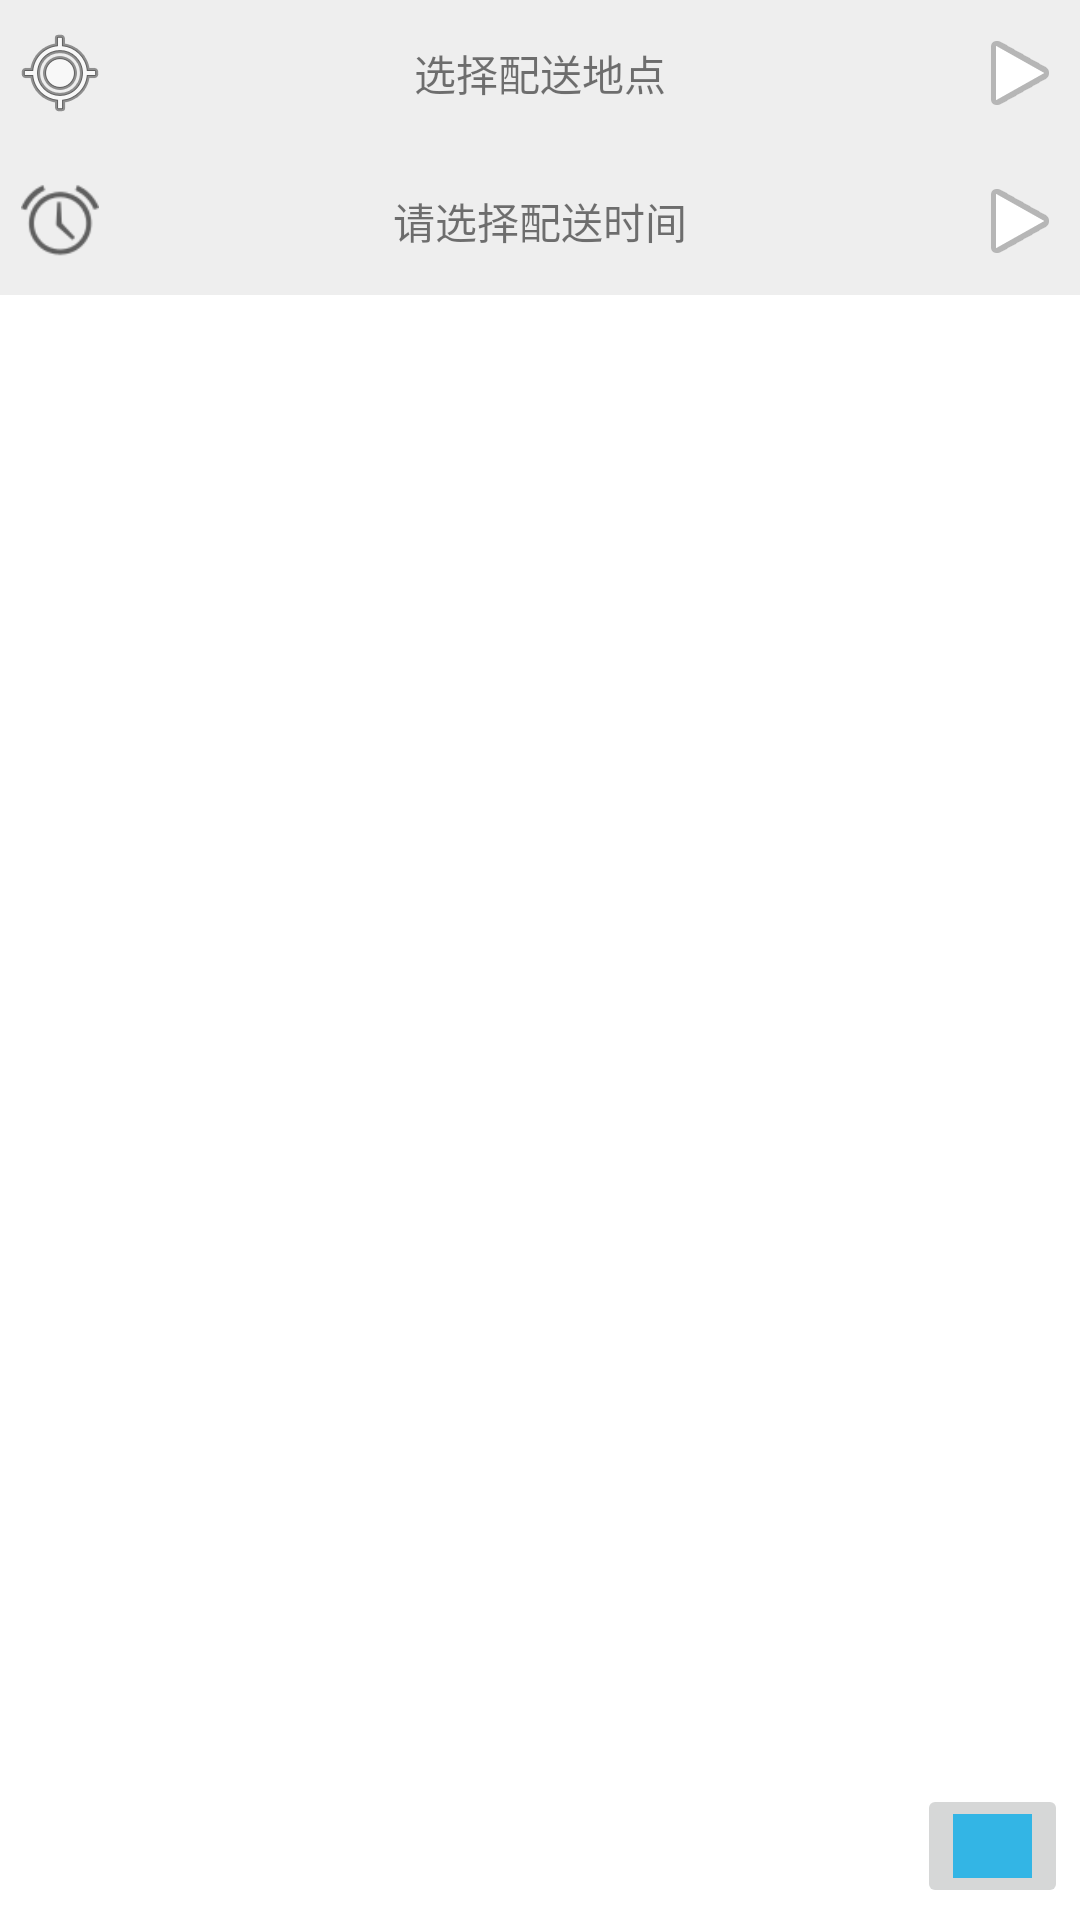

Where icons sit on this 1080 x 1920 app screen, as Rect(x1, y1, x2, y2):
lock idle alarm: Rect(21, 185, 99, 255)
mylocation: Rect(22, 35, 98, 111)
play: Rect(991, 41, 1049, 105), Rect(991, 189, 1049, 253)
